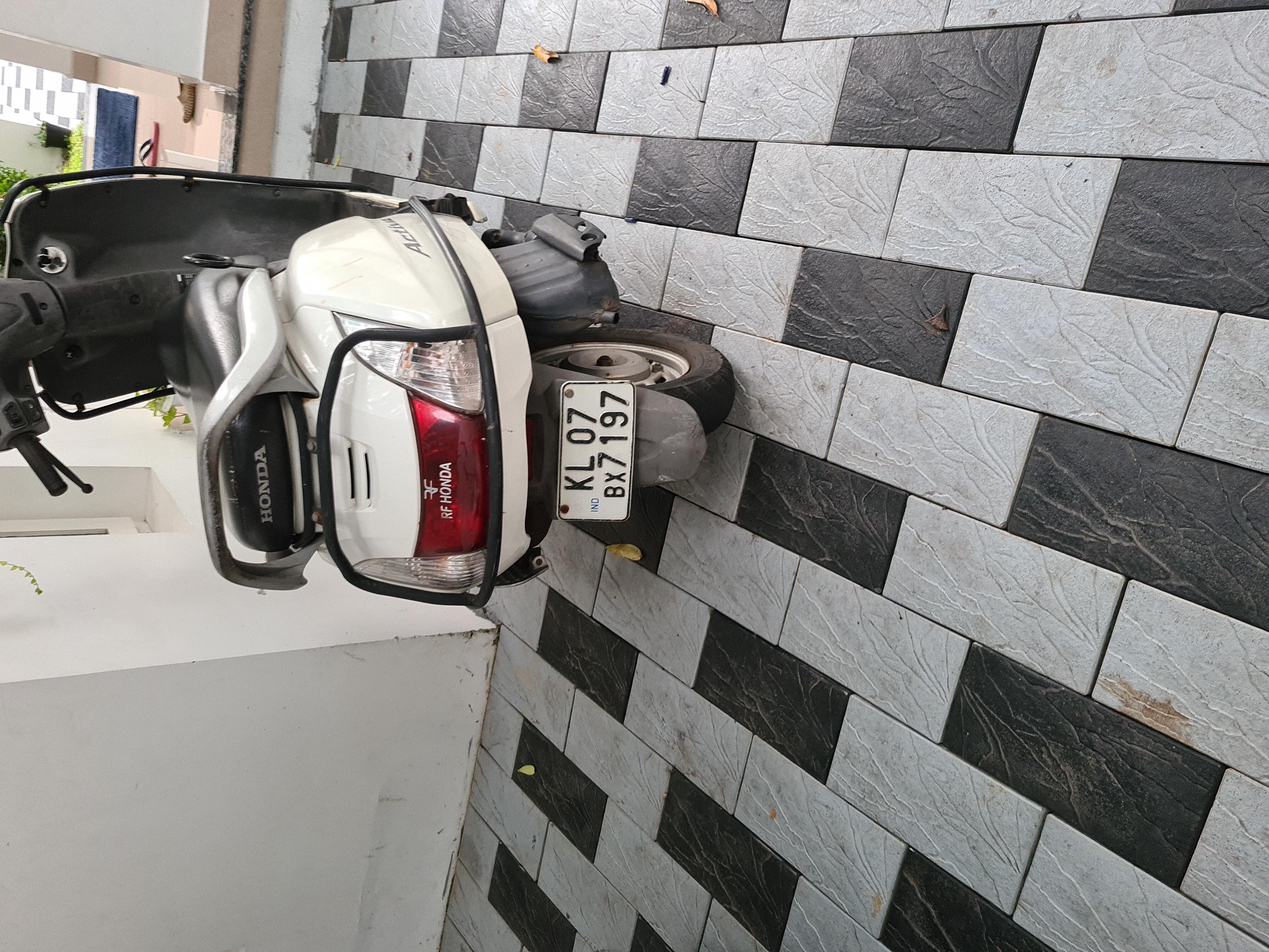number_platenumber_plate_textrotation: (573, 417, 764, 476)
